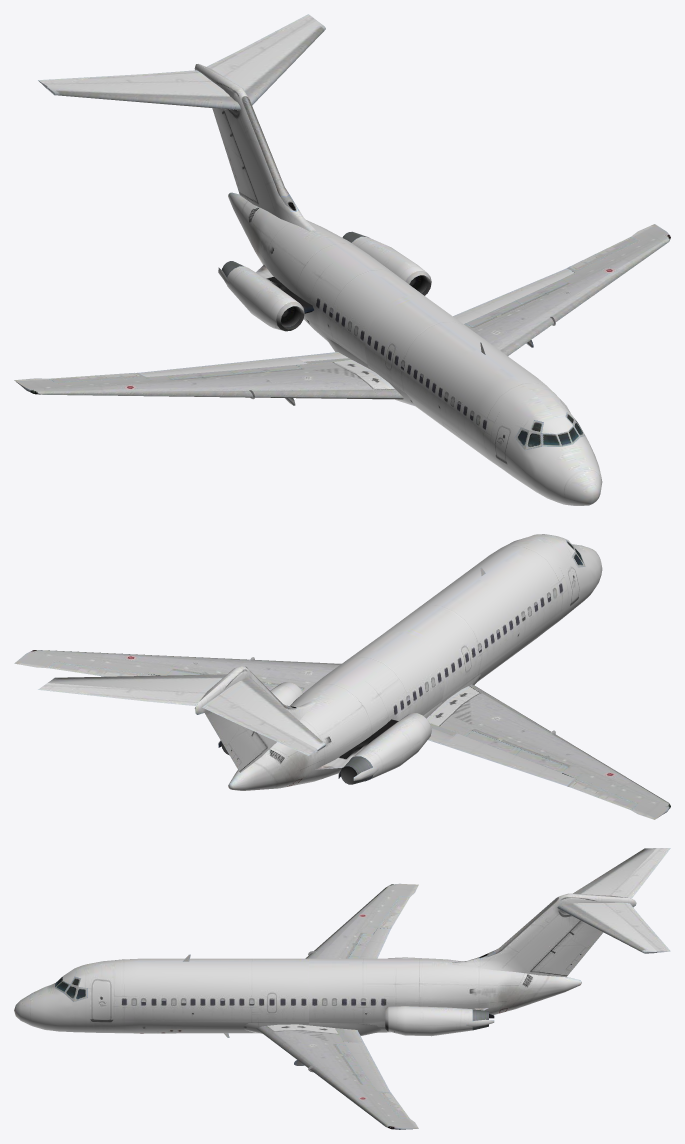
3 renders of one model, top to bottom at view 1: azimuth 30°, elevation 25°; view 2: azimuth 150°, elevation 25°; view 3: azimuth 270°, elevation 25°, orthographic. The views are drawn at different scales.
Parts seen in each view (by area): view 1: Object_13; view 2: Object_13; view 3: Object_13.
Boxes of the visible parts, left/top/right/bottom form: Object_13: left=14, top=14, right=670, bottom=505; Object_13: left=14, top=534, right=670, bottom=819; Object_13: left=14, top=848, right=670, bottom=1129.
Bounding box in the file's own units: 27.99 × 7.68 × 31.75.
Materials: 2 (1 with a texture image).
